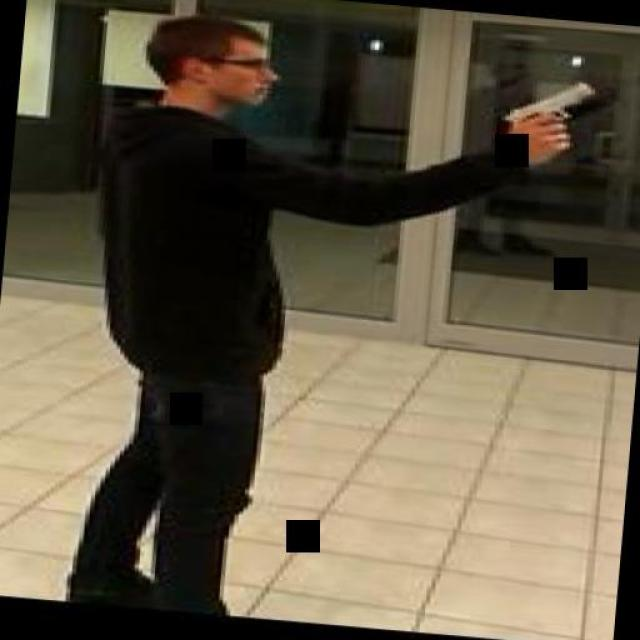gun: (495, 72, 591, 152)
